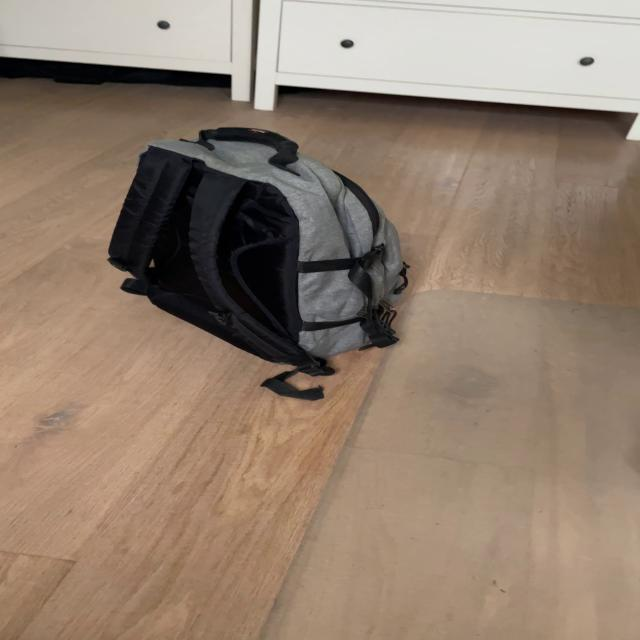backpack: (94, 112, 416, 374)
